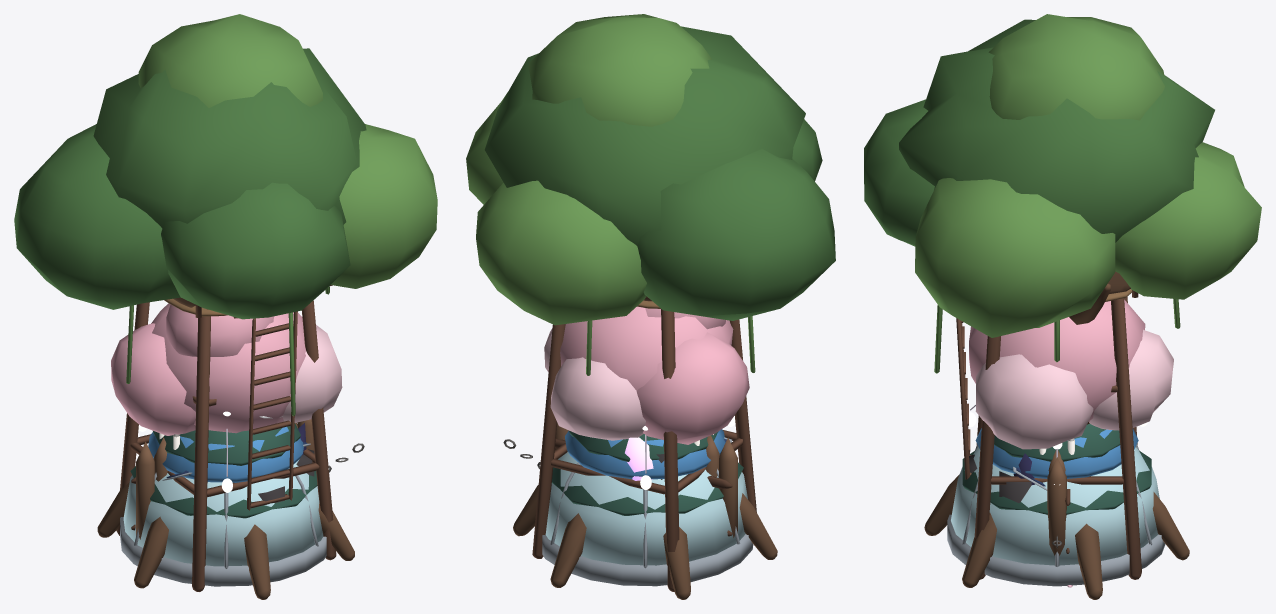
File: granja_astra_paisaje.glb
3 views of the same model, side by side, from view 1: azimuth 30°, elevation 25°; view 2: azimuth 150°, elevation 25°; view 3: azimuth 270°, elevation 25° (orthographic). The views are drawn at different scales.
Parts seen in each view (by area): view 1: copa niebla 0, copa niebla 1, copa cerezo 0, cúpula vidrio, larguero escalera -1, rama niebla 0, piso pino nevado 0, base cúpula, asta atalaya, copa cerezo 1, sombrero chico 0, estaca 0 (+2 smaller); view 2: copa niebla 0, copa niebla 1, copa cerezo 0, cúpula vidrio, larguero escalera -1, copa cerezo 1, rama niebla 0, base cúpula, piso pino nevado 0, sombrero chico 0, estaca 0, asta atalaya (+3 smaller); view 3: copa niebla 1, copa niebla 0, copa cerezo 1, cúpula vidrio, copa cerezo 0, larguero escalera -1, rama niebla 0, piso pino nevado 0, base cúpula, sombrero chico 0, estaca 0, asta atalaya (+2 smaller).
Boxes of the visible parts, bbox=[...] form: copa niebla 0: bbox=[14, 48, 366, 319]; copa niebla 1: bbox=[138, 14, 437, 288]; copa cerezo 0: bbox=[111, 303, 305, 435]; cúpula vidrio: bbox=[123, 460, 323, 566]; larguero escalera -1: bbox=[116, 300, 336, 591]; rama niebla 0: bbox=[97, 317, 354, 599]; piso pino nevado 0: bbox=[130, 423, 317, 518]; base cúpula: bbox=[120, 517, 326, 586]; asta atalaya: bbox=[130, 285, 332, 508]; copa cerezo 1: bbox=[282, 325, 342, 422]; sombrero chico 0: bbox=[148, 426, 303, 482]; estaca 0: bbox=[136, 419, 314, 539]; copa niebla 0: bbox=[484, 26, 835, 320]; copa niebla 1: bbox=[466, 14, 711, 325]; copa cerezo 0: bbox=[560, 306, 749, 444]; cúpula vidrio: bbox=[545, 451, 747, 565]; larguero escalera -1: bbox=[532, 309, 756, 591]; copa cerezo 1: bbox=[544, 328, 645, 440]; rama niebla 0: bbox=[513, 485, 777, 599]; base cúpula: bbox=[542, 534, 753, 586]; piso pino nevado 0: bbox=[552, 430, 743, 515]; sombrero chico 0: bbox=[565, 429, 725, 479]; estaca 0: bbox=[554, 423, 737, 537]; asta atalaya: bbox=[551, 430, 742, 494]; copa niebla 1: bbox=[915, 14, 1261, 337]; copa niebla 0: bbox=[864, 19, 1214, 246]; copa cerezo 1: bbox=[975, 329, 1173, 449]; cúpula vidrio: bbox=[951, 447, 1159, 565]; copa cerezo 0: bbox=[969, 299, 1145, 421]; larguero escalera -1: bbox=[956, 296, 1141, 579]; rama niebla 0: bbox=[924, 283, 1189, 599]; piso pino nevado 0: bbox=[962, 423, 1151, 514]; base cúpula: bbox=[947, 514, 1165, 586]; sombrero chico 0: bbox=[975, 428, 1138, 478]; estaca 0: bbox=[1047, 450, 1066, 555]; asta atalaya: bbox=[961, 290, 1138, 484].
Size of the model in its own units: 6.03 by 8.29 by 5.61.
